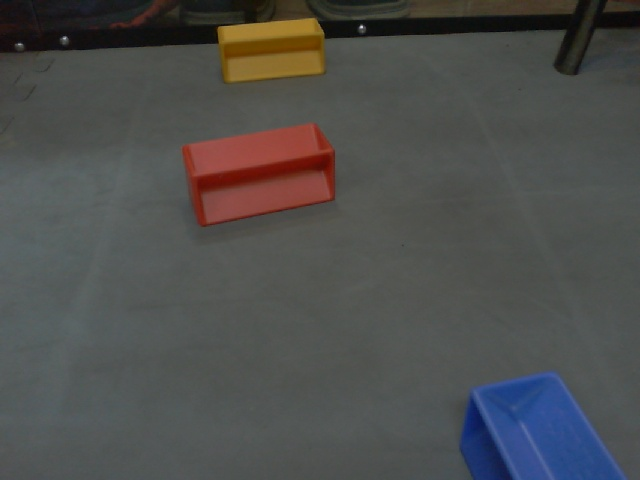BlueSample: (457, 372, 631, 480)
RedSample: (180, 122, 337, 227)
YellowSample: (212, 15, 327, 85)
